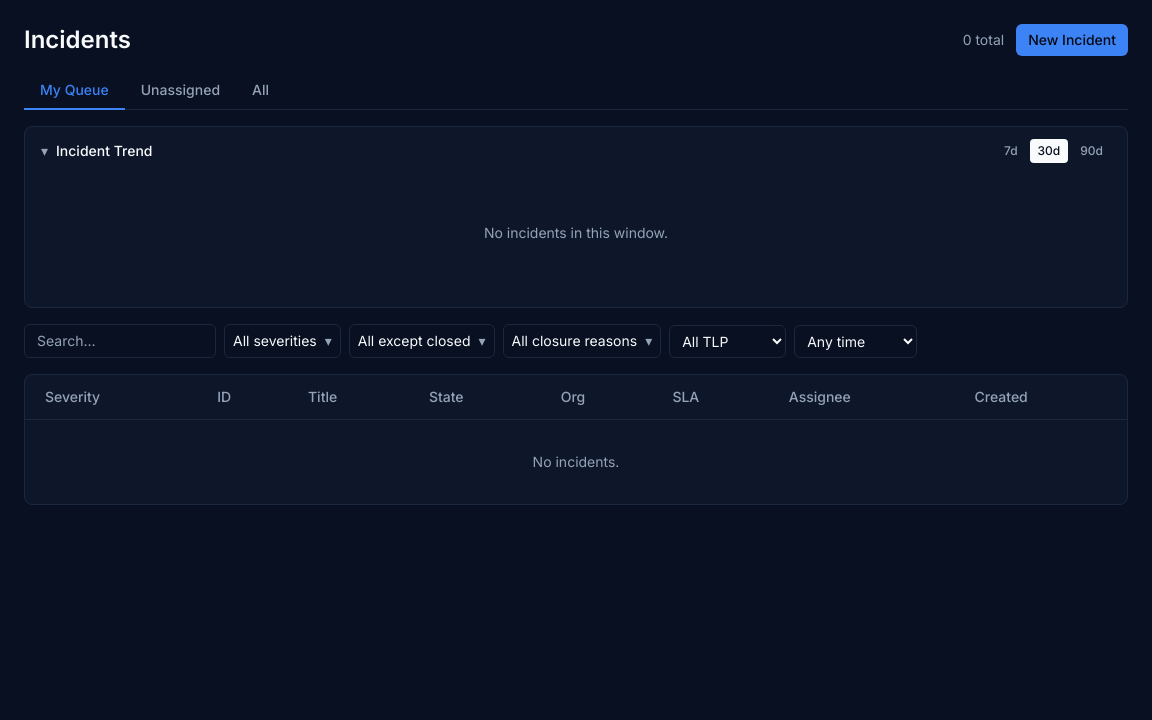
Test: IncidentList › state "Reset" is disabled at the baseline, "Select all" disabled when all selected
Click the button with aria-label "State filter". click: (422, 341)
box: [349,324,495,358]
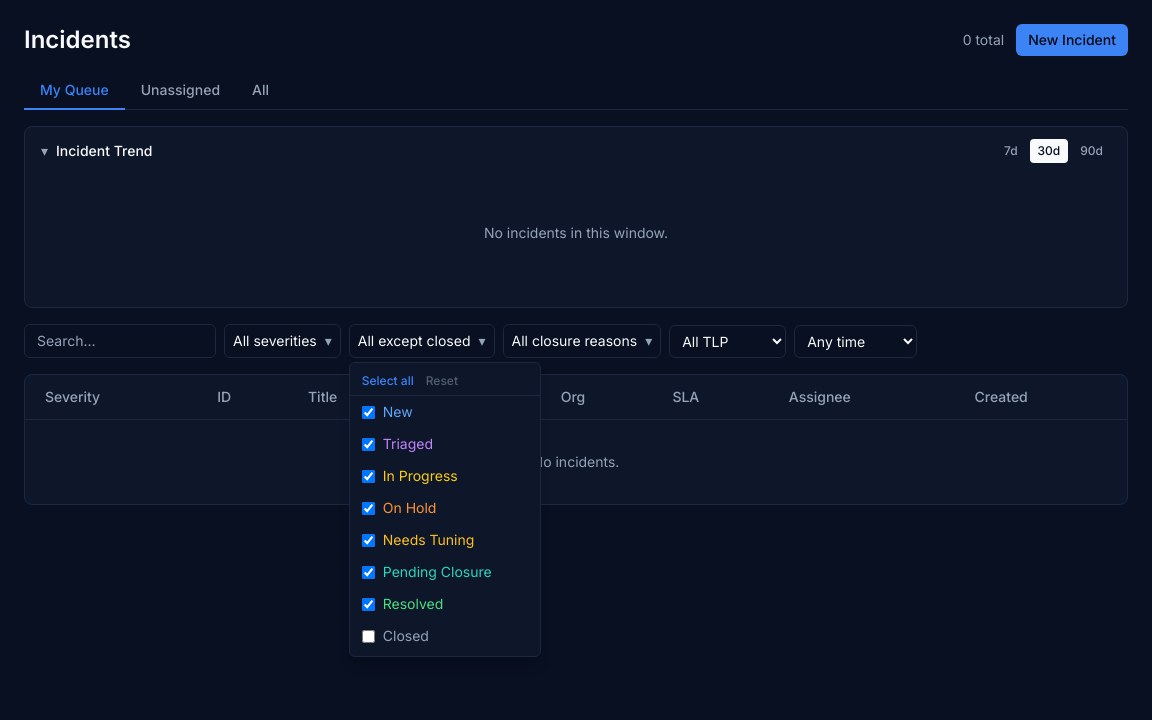
Result: the button "Reset" is disabled at [426,373,458,389]
Result: the button "Select all" is enabled
Note: Select everything → now Select all is the no-op
Click the button "Select all". click: (388, 381)
box: [362,373,414,389]
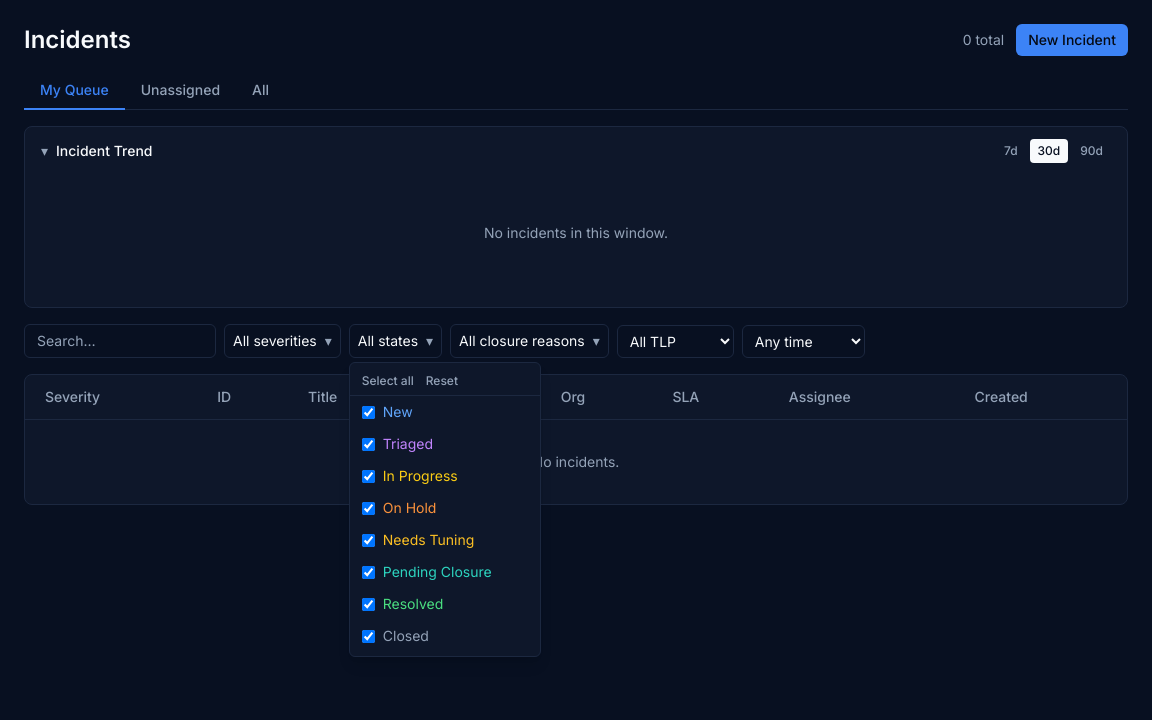
Result: the button "Select all" is disabled at [362,373,414,389]
